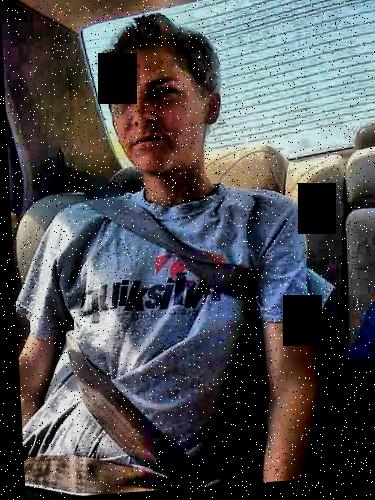seatbelt: (36, 275, 154, 481)
